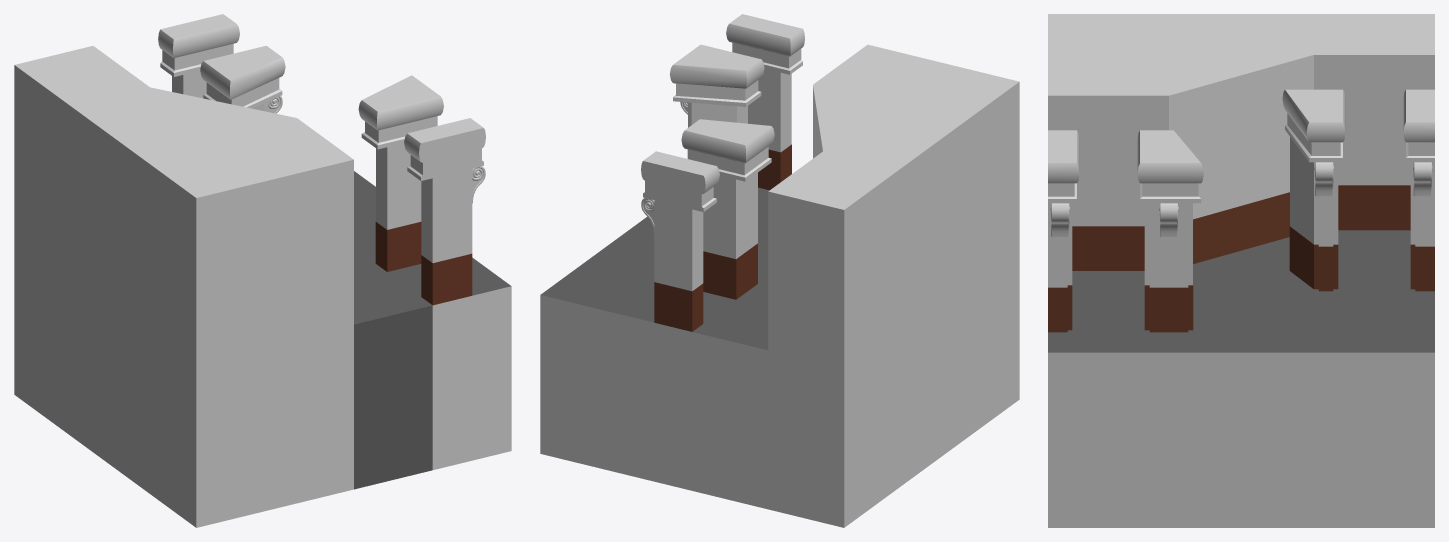
File: House_Base_Straight_FB_Connector_2_var0.fbx
The picture shows the model from 3 angles, left to right: view 1: azimuth 30°, elevation 25°; view 2: azimuth 150°, elevation 25°; view 3: azimuth 270°, elevation 25°; orthographic projection. The views are drawn at different scales.
Visible parts, largest first — view 1: House_Base_Straight_FB_Connector_2_MESH; view 2: House_Base_Straight_FB_Connector_2_MESH; view 3: House_Base_Straight_FB_Connector_2_MESH.
Part boxes in pixels (x1,y1,x2,y2): House_Base_Straight_FB_Connector_2_MESH: (14,14,511,527); House_Base_Straight_FB_Connector_2_MESH: (540,14,1019,527); House_Base_Straight_FB_Connector_2_MESH: (1048,14,1434,527).
Size of the model in its own units: 4 by 4 by 4.
